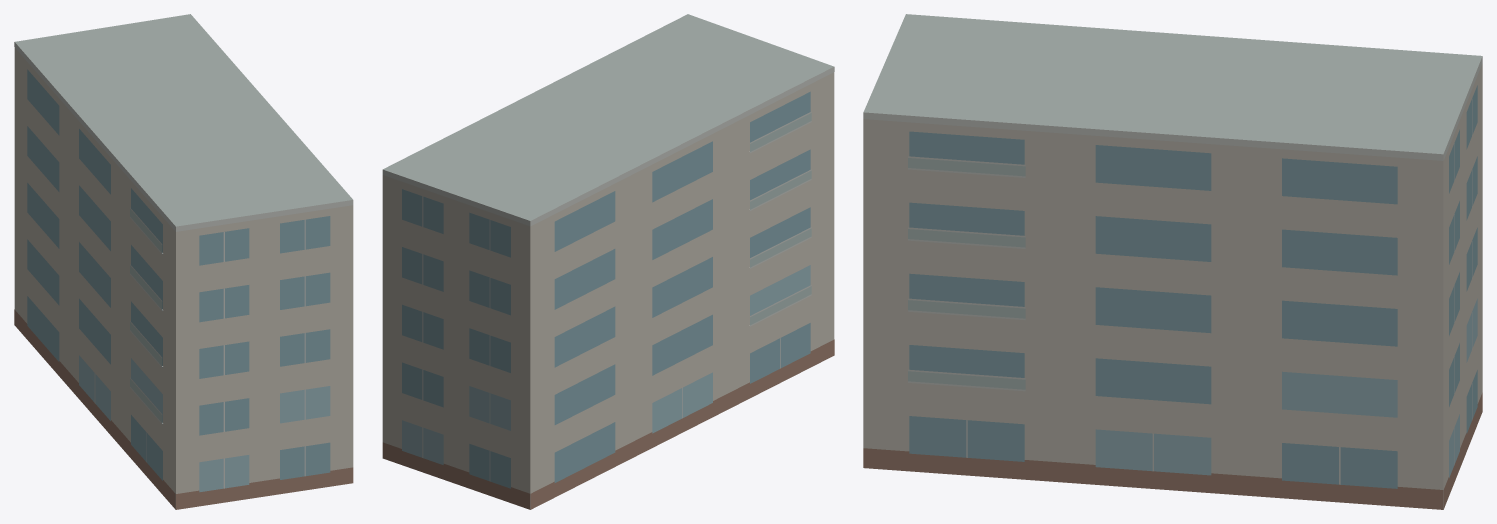
The model's file is survey-upis-32713671.glb.
3 views of the same model, side by side, from view 1: azimuth 30°, elevation 25°; view 2: azimuth 150°, elevation 25°; view 3: azimuth 270°, elevation 25° (orthographic). The views are drawn at different scales.
Parts seen in each view (by area): view 1: survey-upis-32713671.tmp; view 2: survey-upis-32713671.tmp; view 3: survey-upis-32713671.tmp.
Boxes of the visible parts, x1,y1,x2,y2 form: survey-upis-32713671.tmp: (14, 14, 353, 509); survey-upis-32713671.tmp: (382, 14, 834, 509); survey-upis-32713671.tmp: (863, 14, 1482, 509).
Size of the model in its own units: 11.01 by 13 by 20.53.
